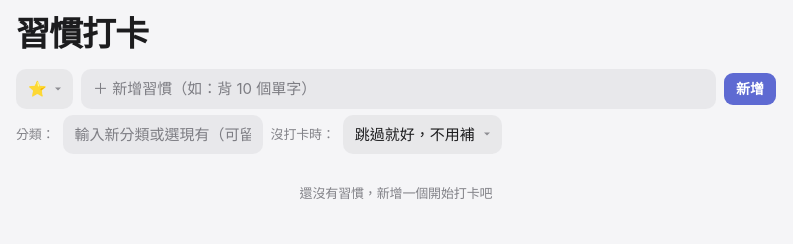
it: 習慣頁新增習慣的 IME／防重／寫入／刷新邊界 › 寫入失敗時顯示錯誤、保留所有輸入、不刷新，直接再按一次即可重試
Select "💧" in the 1st dropdown at (44, 89), box [16,69,73,109]
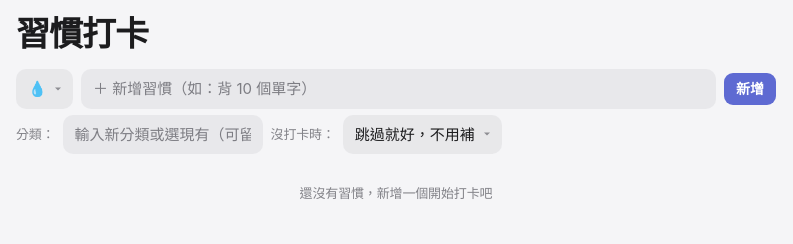
Type "喝水" into the field with placeholder "＋ 新增習慣（如：背 10 個單字）" at (398, 89), box [81,69,716,109]
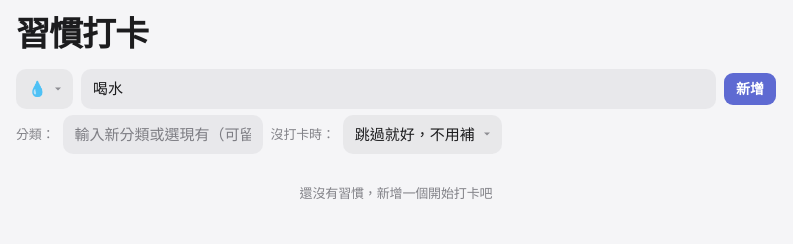
Type "健康" into the field with placeholder "輸入新分類或選現有（可留空）" at (163, 134), box [63,114,263,154]
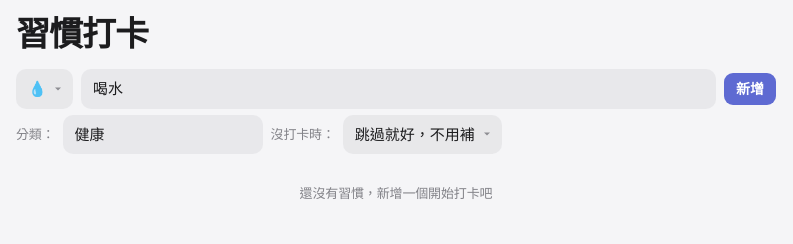
Select "保留，要回來補卡" in the dropdown next to "沒打卡時：" at (422, 134), box [343,114,502,154]
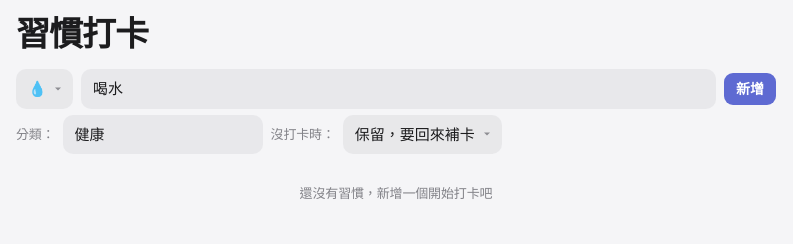
Submit the form with placeholder "＋ 新增習慣（如：背 10 個單字）", box [16,69,776,154]
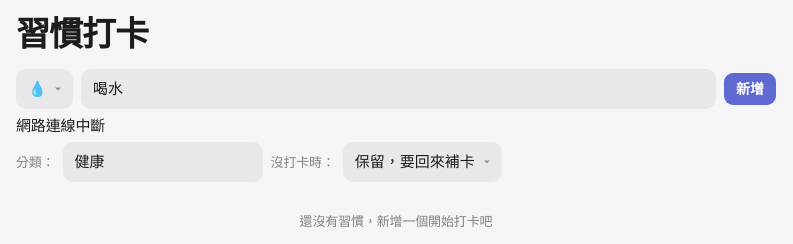
Expected: the button "新增" is enabled, [724,72,776,105]
Expected: the message reads "網路連線中斷", [16,116,105,134]
Submit the form with placeholder "＋ 新增習慣（如：背 10 個單字）", box [16,69,776,182]
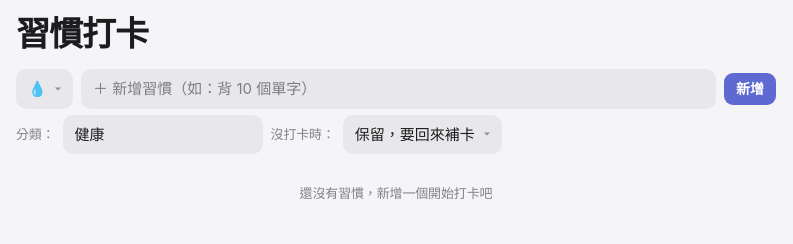
Expected: the message "網路連線中斷" is gone
Expected: the field with placeholder "＋ 新增習慣（如：背 10 個單字）" is empty, [81,69,716,109]
